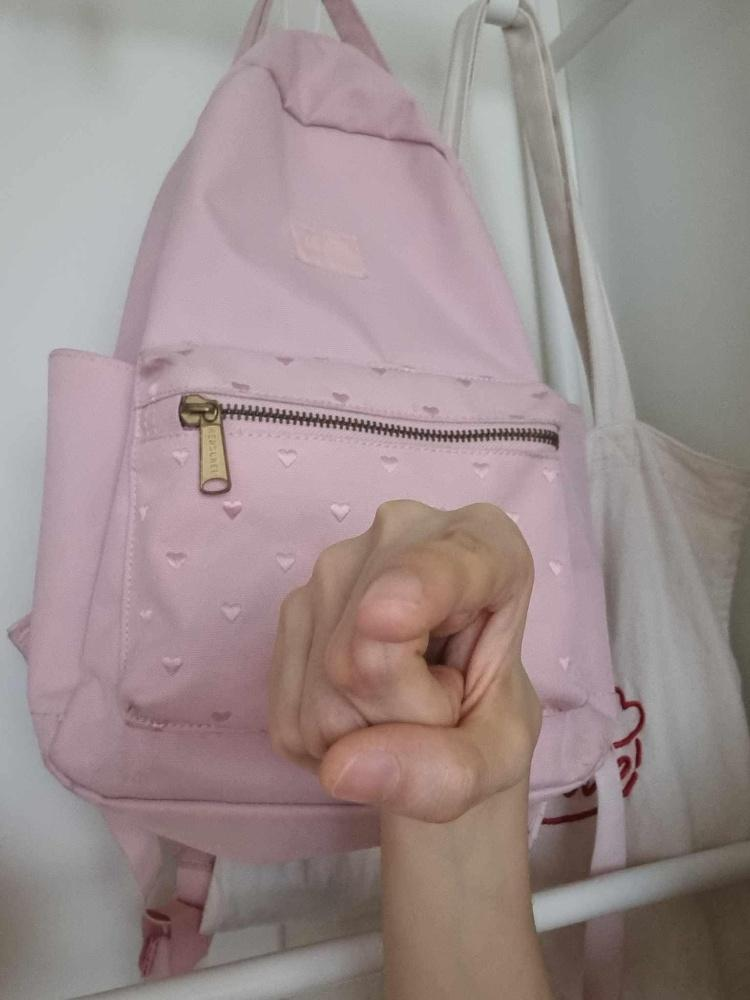z: (266, 494, 546, 821)
